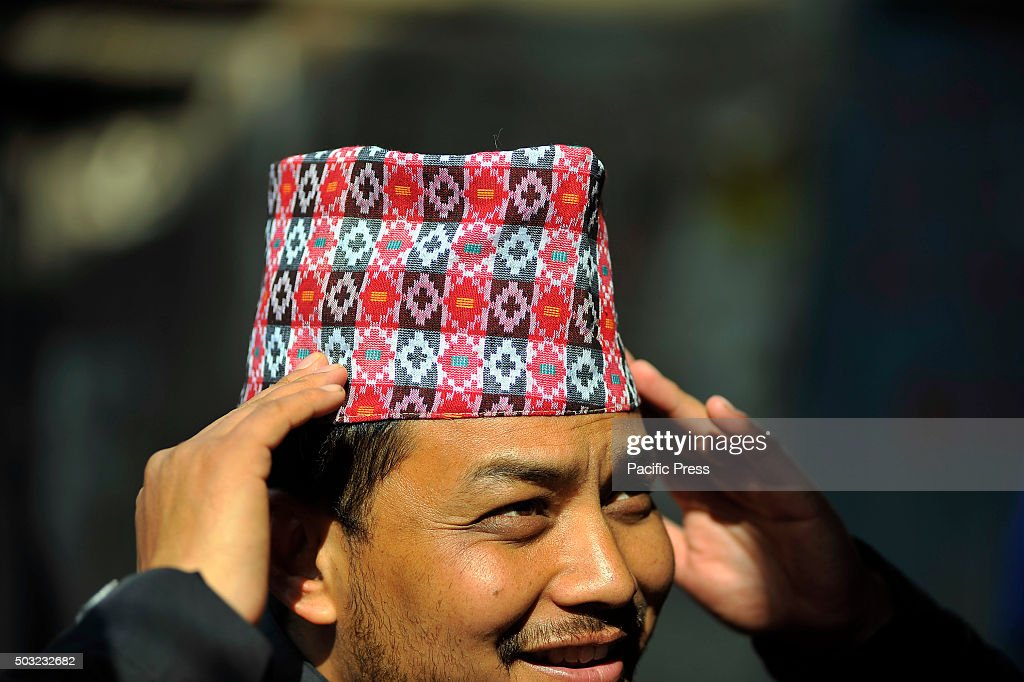human: (59, 122, 753, 682)
